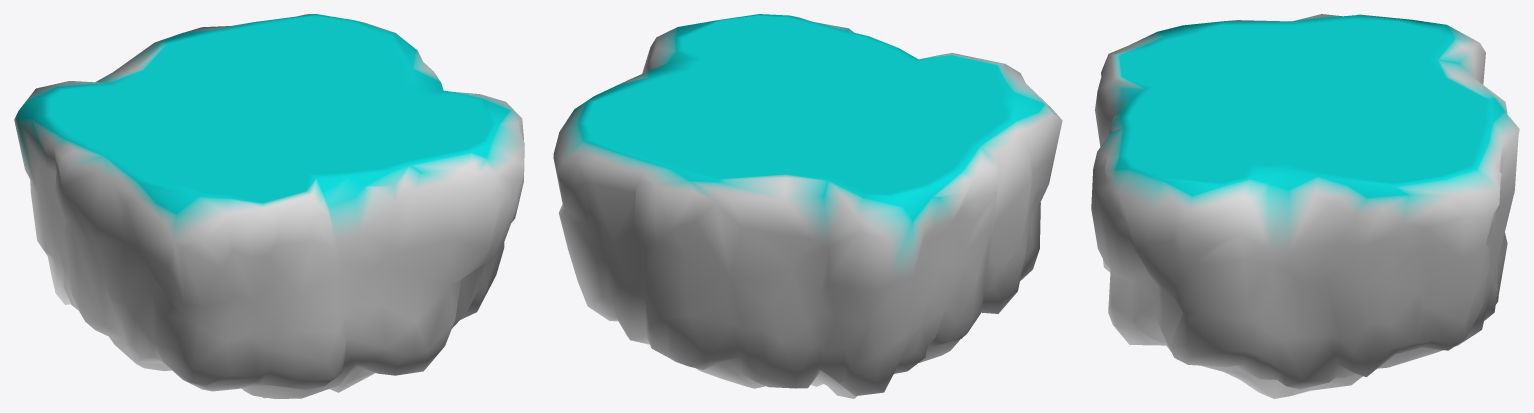
Rendered from Homeworld_Exterior_Common_Rockery_07_Lod0.fbx.
The picture shows the model from 3 angles, left to right: view 1: azimuth 30°, elevation 25°; view 2: azimuth 150°, elevation 25°; view 3: azimuth 270°, elevation 25°; orthographic projection.
Parts seen in each view (by area): view 1: Homeworld_Exterior_Common_Rockery_07_Lod0; view 2: Homeworld_Exterior_Common_Rockery_07_Lod0; view 3: Homeworld_Exterior_Common_Rockery_07_Lod0.
Boxes of the visible parts, <box> form: Homeworld_Exterior_Common_Rockery_07_Lod0: <box>14,14,524,398</box>; Homeworld_Exterior_Common_Rockery_07_Lod0: <box>553,14,1062,398</box>; Homeworld_Exterior_Common_Rockery_07_Lod0: <box>1091,14,1519,398</box>.
Size of what is drawn, in the model's own units: 15.85 by 10.57 by 14.92.
